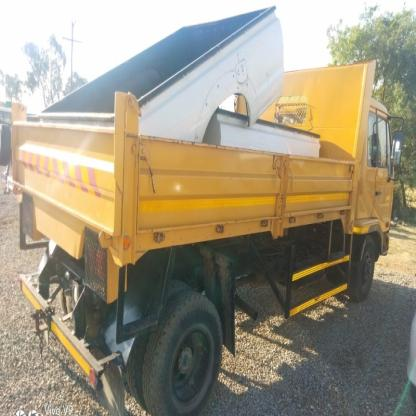dump_truck: (8, 10, 401, 408)
